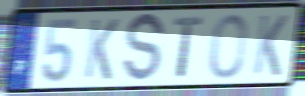5: (40, 16, 78, 85)
K: (82, 16, 121, 82), (251, 12, 290, 78)
O: (208, 12, 249, 81)
S: (121, 11, 166, 87)
T: (172, 15, 206, 80)
